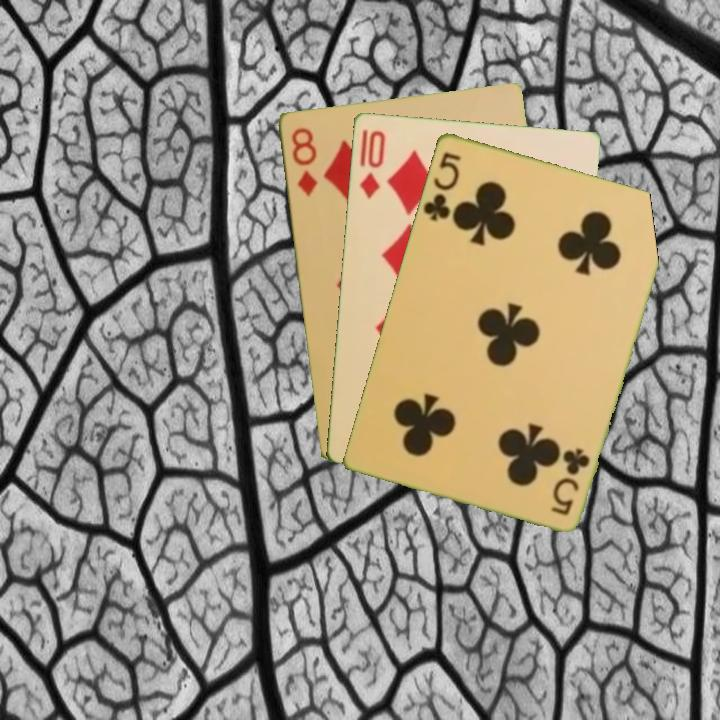10d: (355, 125, 388, 202)
5c: (547, 443, 593, 518), (419, 148, 463, 224)
8d: (287, 124, 320, 199)
